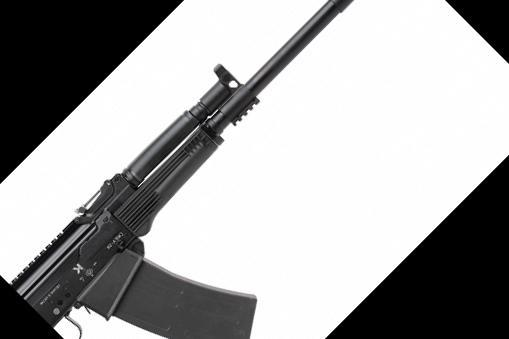larga: (8, 0, 354, 339)
